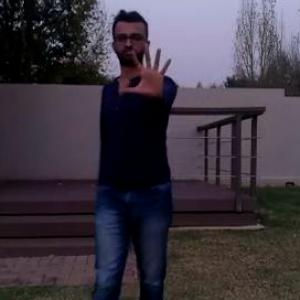follow_hand: (117, 41, 177, 98)
